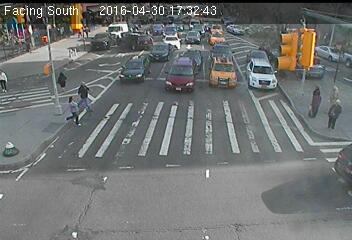neg: (174, 53, 200, 87), (202, 187, 226, 219), (170, 137, 194, 168), (122, 145, 145, 175), (5, 134, 26, 161), (256, 183, 276, 210), (25, 58, 45, 84), (109, 33, 128, 58), (220, 29, 239, 54), (126, 62, 144, 87), (241, 142, 258, 166), (272, 107, 289, 130), (62, 32, 79, 55), (221, 76, 236, 95), (288, 47, 302, 66), (96, 170, 110, 189)
pos: (325, 96, 349, 128), (303, 82, 326, 113), (74, 78, 97, 107), (62, 96, 83, 124), (58, 68, 73, 87)
